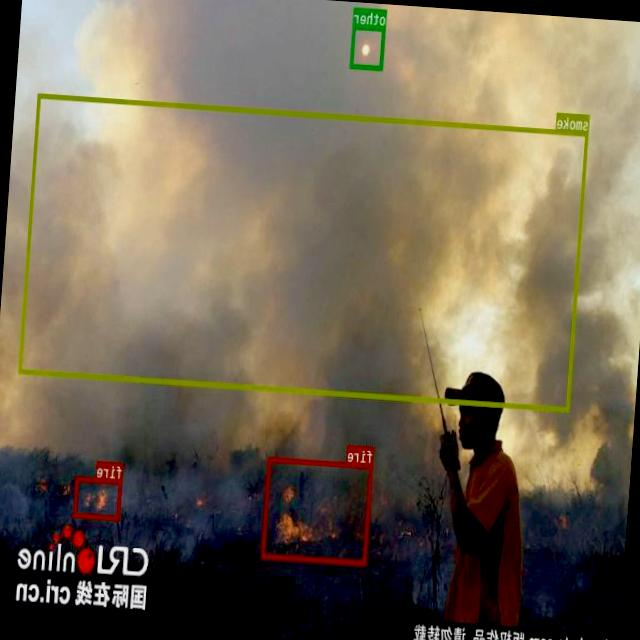fire: (261, 456, 373, 565), (73, 476, 123, 520)
smoke: (19, 92, 589, 410)
